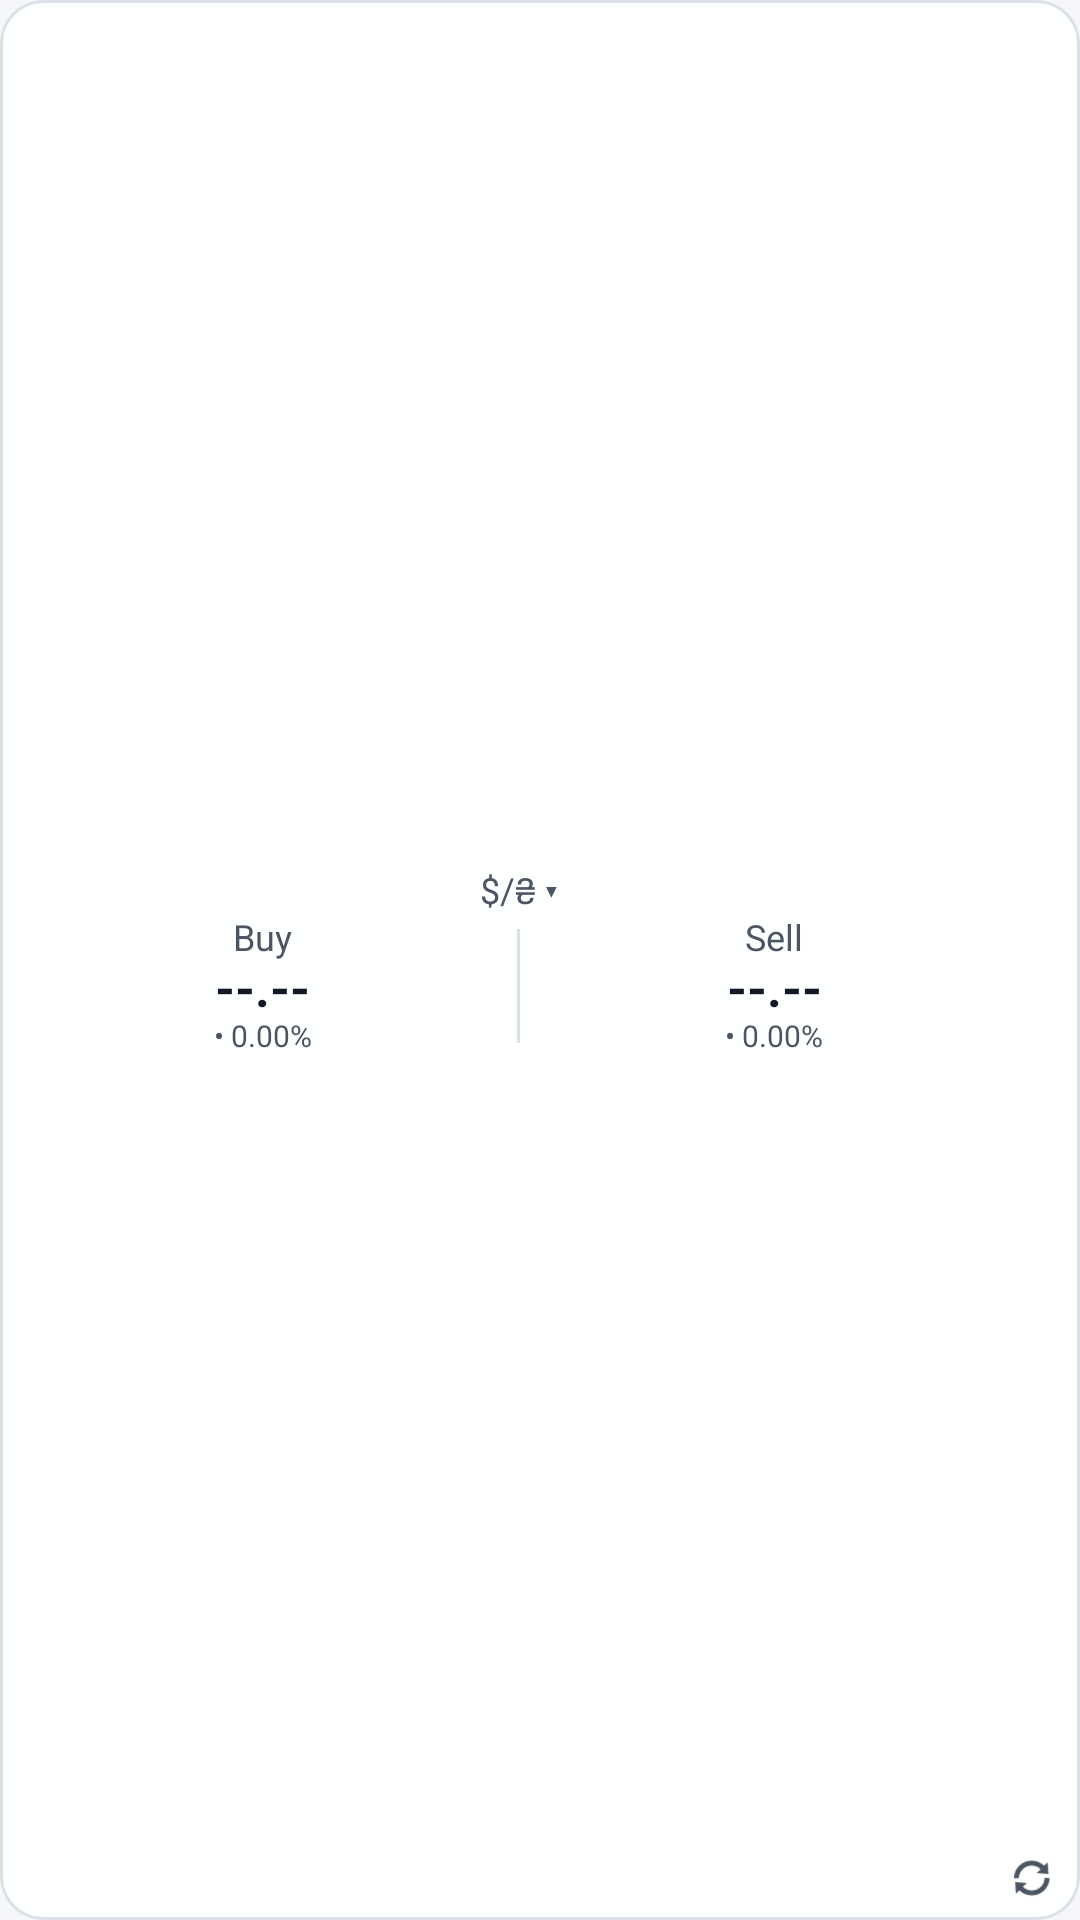

Named icons in this screenshot (1080w x 1920h) and their centers, [x,y]:
Refresh rates: [1032,1878]
